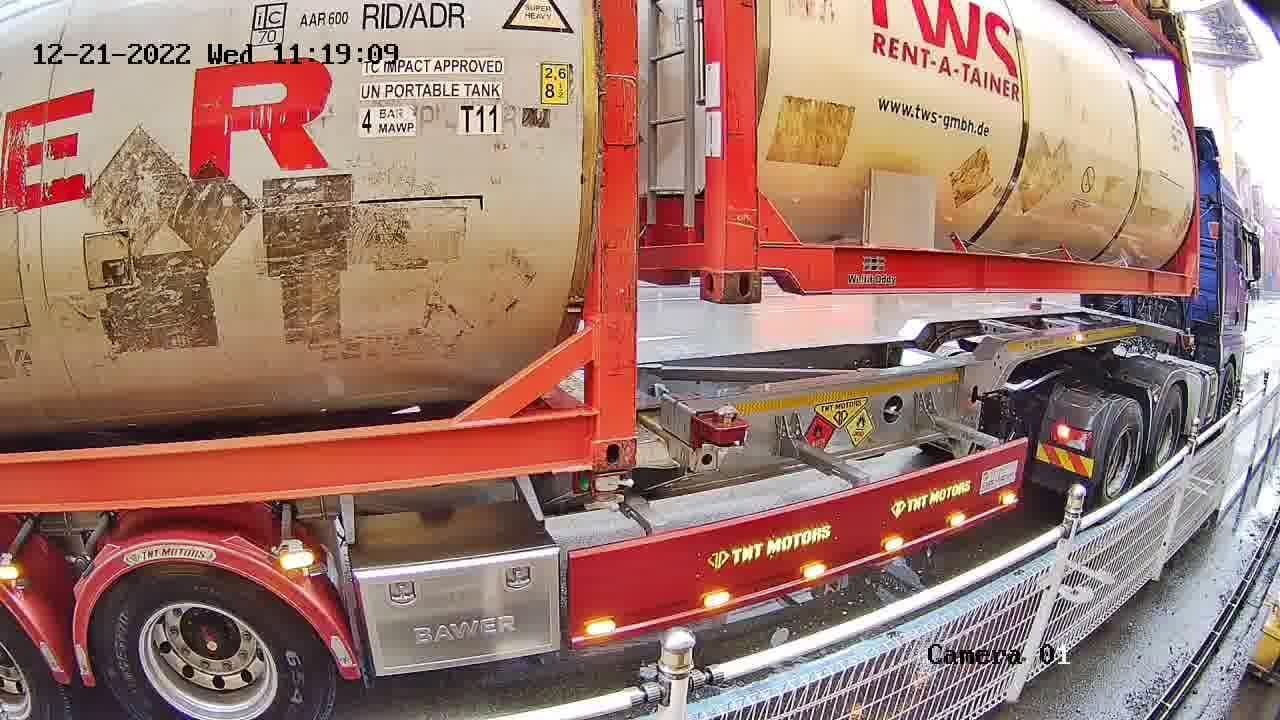Cone: (700, 401, 754, 456), (583, 471, 631, 514)
Hole_L: (726, 232, 793, 302)
Hole_R: (546, 386, 636, 473), (677, 232, 725, 301)
Tire: (88, 563, 332, 719), (3, 617, 66, 719), (1097, 404, 1142, 520), (1149, 387, 1181, 482)
